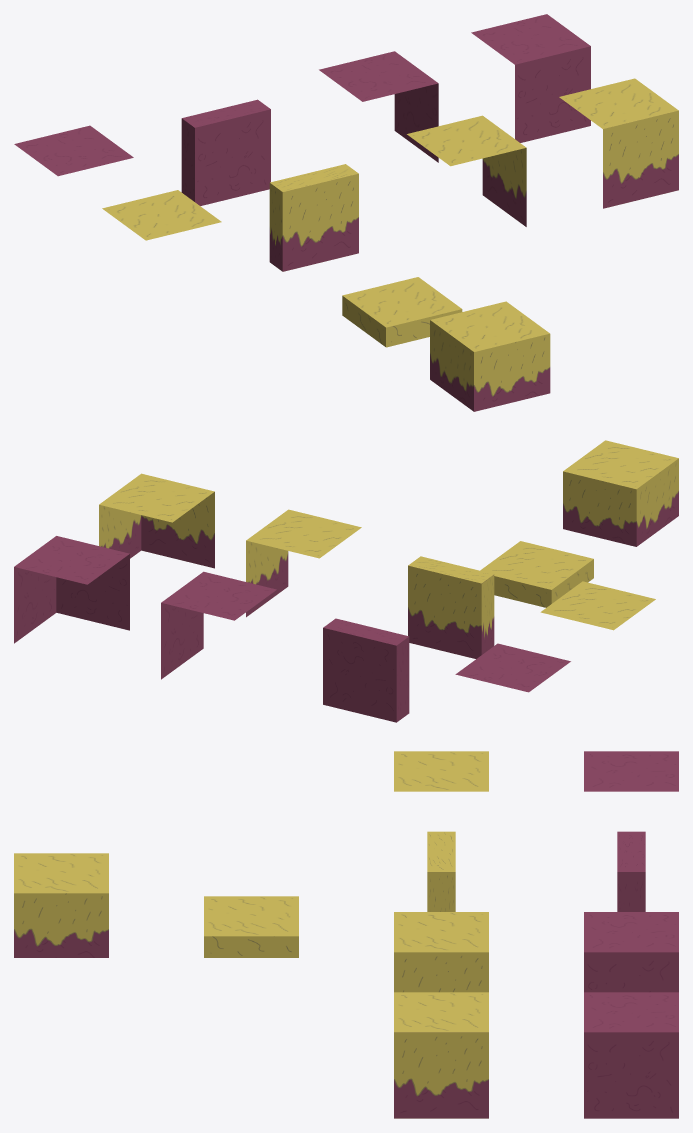
File: test_stage_blender v2 thin.glb
3 renders of one model, top to bottom at view 1: azimuth 30°, elevation 25°; view 2: azimuth 150°, elevation 25°; view 3: azimuth 270°, elevation 25°, orthographic. The views are drawn at different scales.
Parts seen in each view (by area): view 1: GrassHalf, GrassV3, DirtV3, Grass-col, Dirt-col, GrassV2, DirtV2, GrassBit, DirtUp, GrassUp; view 2: GrassHalf, DirtV3, GrassV3, Dirt-col, Grass-col, DirtV2, GrassV2, GrassBit, DirtUp, GrassUp; view 3: GrassV3, DirtV3, GrassHalf, GrassV2, DirtV2, GrassBit, GrassUp, DirtUp, Grass-col, Dirt-col.
Part boxes in pixels (box(x1,y1,x2,y2)): GrassHalf: box(430, 301, 550, 411); GrassV3: box(559, 78, 678, 208); DirtV3: box(471, 14, 590, 142); Grass-col: box(269, 164, 358, 271); Dirt-col: box(181, 99, 270, 205); GrassV2: box(407, 115, 526, 226); DirtV2: box(319, 51, 438, 162); GrassBit: box(342, 277, 462, 347); DirtUp: box(14, 125, 133, 176); GrassUp: box(102, 190, 221, 240); GrassHalf: box(563, 440, 678, 546); DirtV3: box(14, 536, 129, 643); GrassV3: box(99, 473, 214, 568); Dirt-col: box(323, 618, 409, 722); Grass-col: box(408, 556, 494, 658); DirtV2: box(161, 571, 276, 679); GrassV2: box(246, 509, 361, 617); GrassBit: box(480, 541, 593, 607); DirtUp: box(455, 643, 570, 692); GrassUp: box(540, 581, 655, 630); GrassV3: box(394, 992, 488, 1118); DirtV3: box(584, 992, 678, 1118); GrassHalf: box(14, 853, 108, 957); GrassV2: box(394, 912, 488, 992); DirtV2: box(584, 912, 678, 992); GrassBit: box(204, 896, 298, 957); GrassUp: box(394, 751, 488, 791); DirtUp: box(584, 751, 678, 791); Grass-col: box(427, 831, 455, 911); Dirt-col: box(617, 831, 645, 911).
Size of what is drawn, in the model's own units: 14 by 2 by 14.
Materials: 3 (3 with a texture image).
